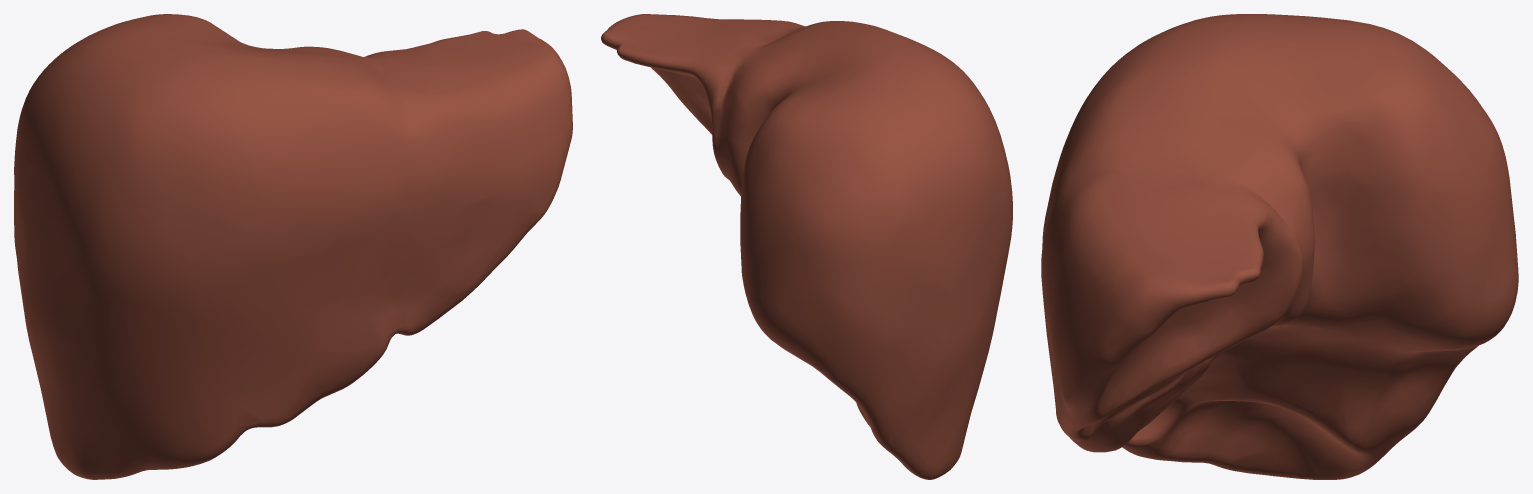
Rendered from liver.glb.
3 views of the same model, side by side, from view 1: azimuth 30°, elevation 25°; view 2: azimuth 150°, elevation 25°; view 3: azimuth 270°, elevation 25° (orthographic). The views are drawn at different scales.
Parts seen in each view (by area): view 1: FMA7197; view 2: FMA7197; view 3: FMA7197.
Boxes of the visible parts, <box> form: FMA7197: <box>14,14,572,479</box>; FMA7197: <box>601,14,1012,479</box>; FMA7197: <box>1041,14,1518,479</box>.
Size of the model in its own units: 3.3 by 2.88 by 2.49.
